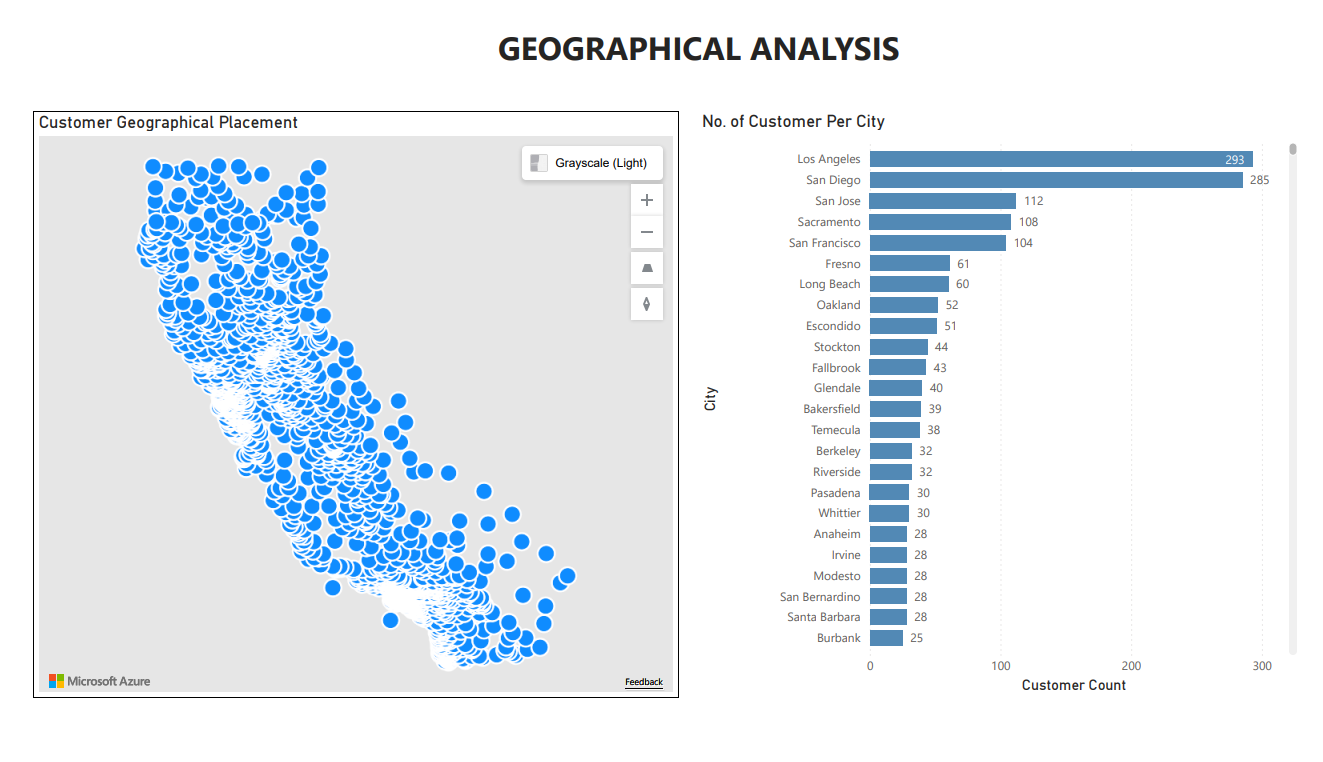

Layout of this report page (visuals, bound fields, positions):
{"tool":"powerbi","page":{"name":"Geographical Analysis","canvas":[1280,720],"ordinal":2},"visuals":[{"type":"azureMap","title":"Customer Geographical Placement","fields":{"Y":["Customer Location.Latitude"],"X":["Customer Location.Longitude"]},"box":[10.7,90.8,646.1,587.3],"z":0},{"type":"clusteredBarChart","title":"No. of Customer Per City","fields":{"Category":["Customer Location.City"],"Y":["CountNonNull(Customer Location.Customer ID)"]},"box":[674.5,90.8,605.1,587.3],"z":1000},{"type":"textbox","box":[103.2,0,1148,62.3],"z":2000}]}

Visuals, with their boxes in screenshot pixels (x1, y1, x2, y2), scaled from the page's 1280x720 canvas onto the 1323x762 screenshot:
"Customer Geographical Placement" azureMap: l=11, t=96, r=679, b=718
"No. of Customer Per City" clusteredBarChart: l=697, t=96, r=1322, b=718
textbox: l=107, t=0, r=1293, b=66
